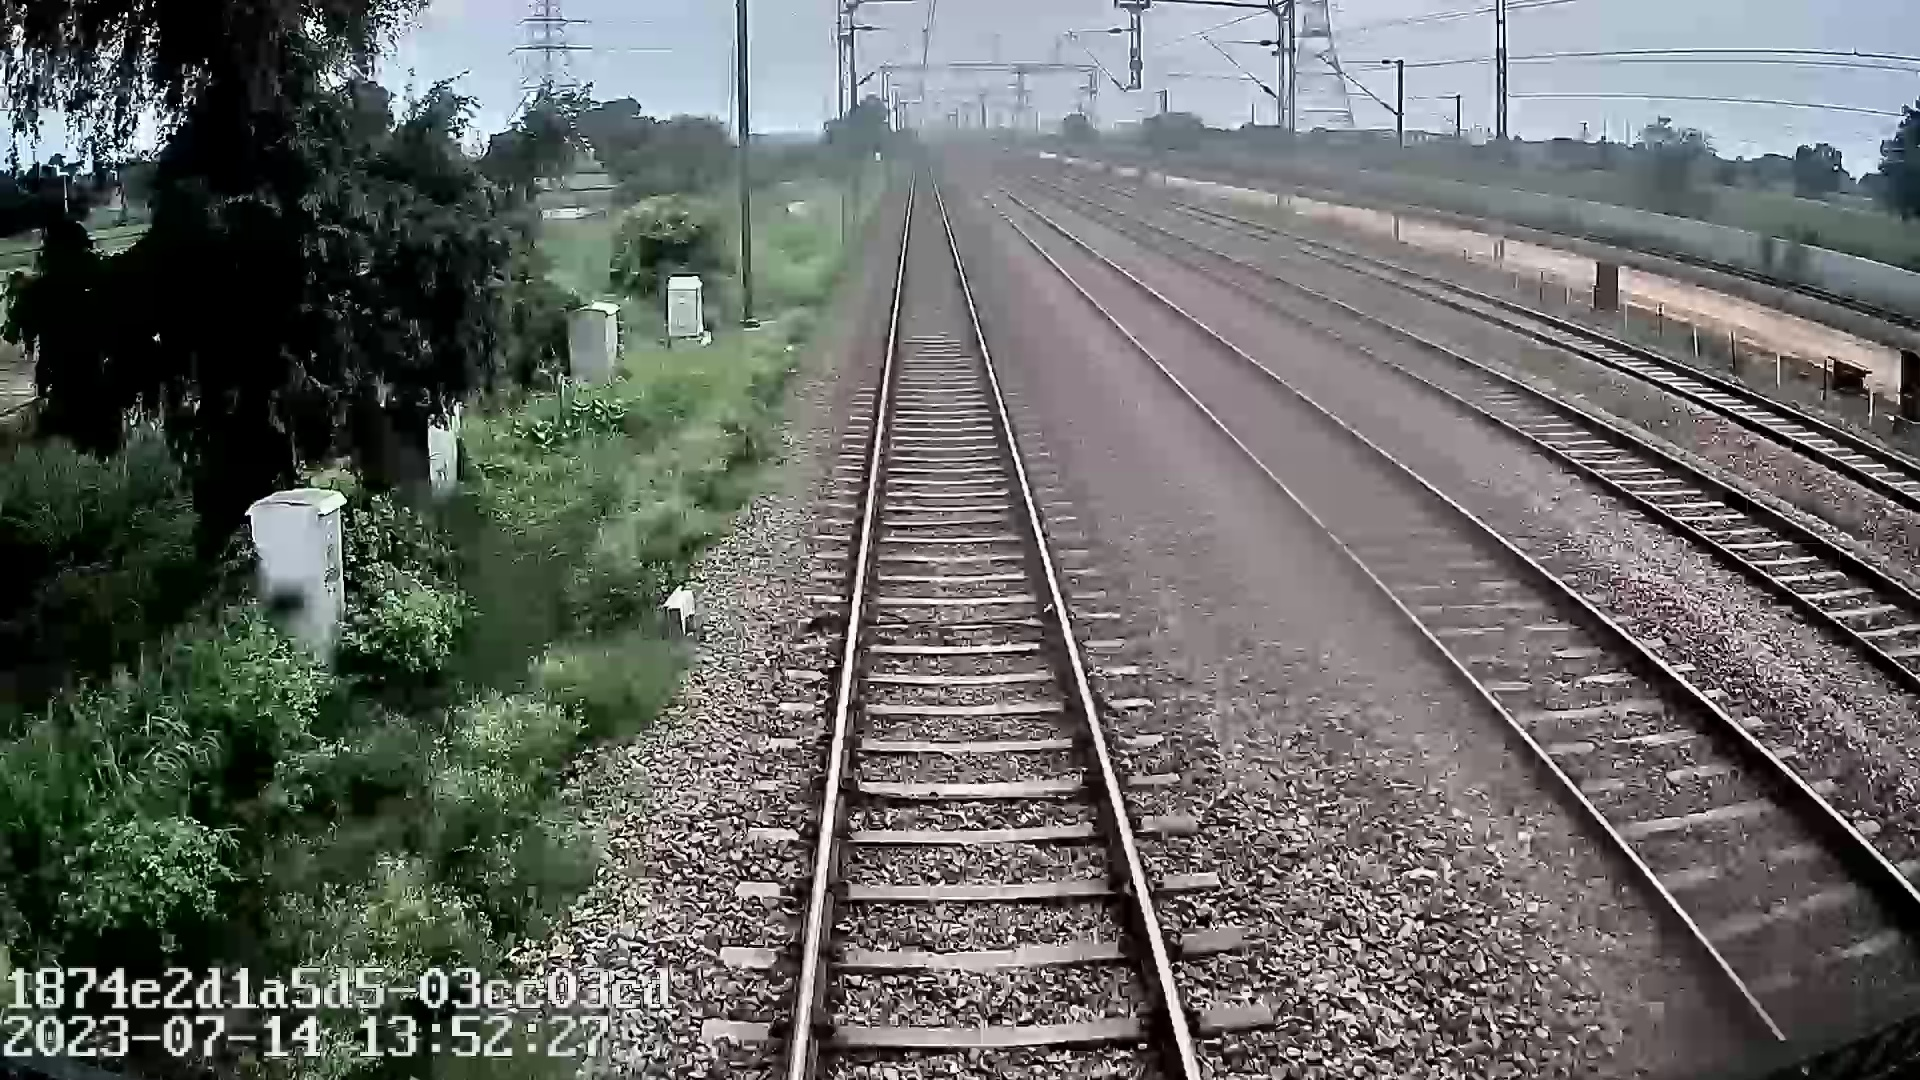track1: (796, 182, 1188, 1068)
track2: (985, 191, 1919, 1033)
track3: (1075, 198, 1919, 654)
track4: (1295, 240, 1919, 501)
